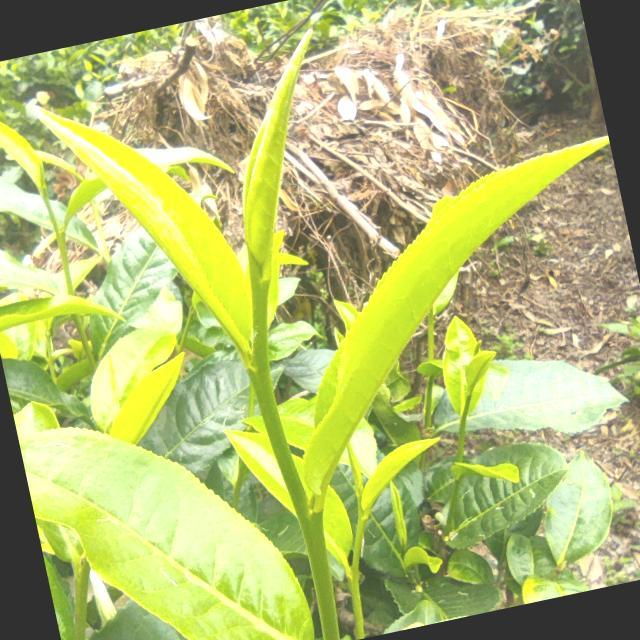Stem: (249, 356, 267, 378)
